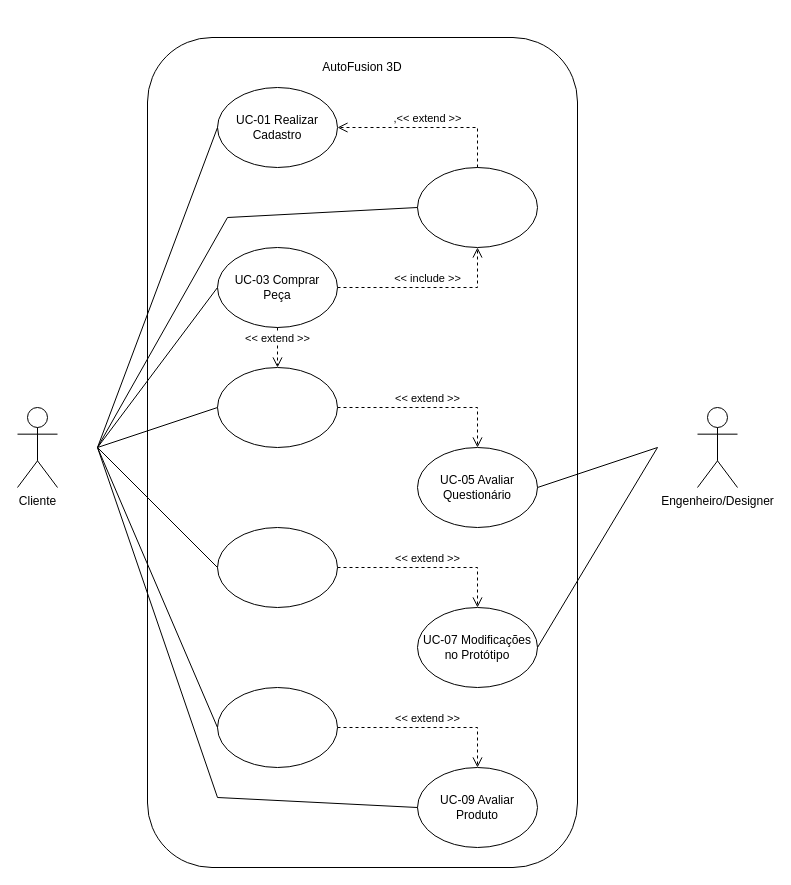
Image size: 791x885. Some labels were removed from this diagram. The centre of each missing label's shape, as x and y in pixels:
"UC-02 Logar" goes at pixel 477 207.
"UC-04 Solicitar Customização" goes at pixel 277 407.
"UC-06 Avaliar Protótipo" goes at pixel 277 567.
"UC-08 Acompanhar Entrega" goes at pixel 277 727.
